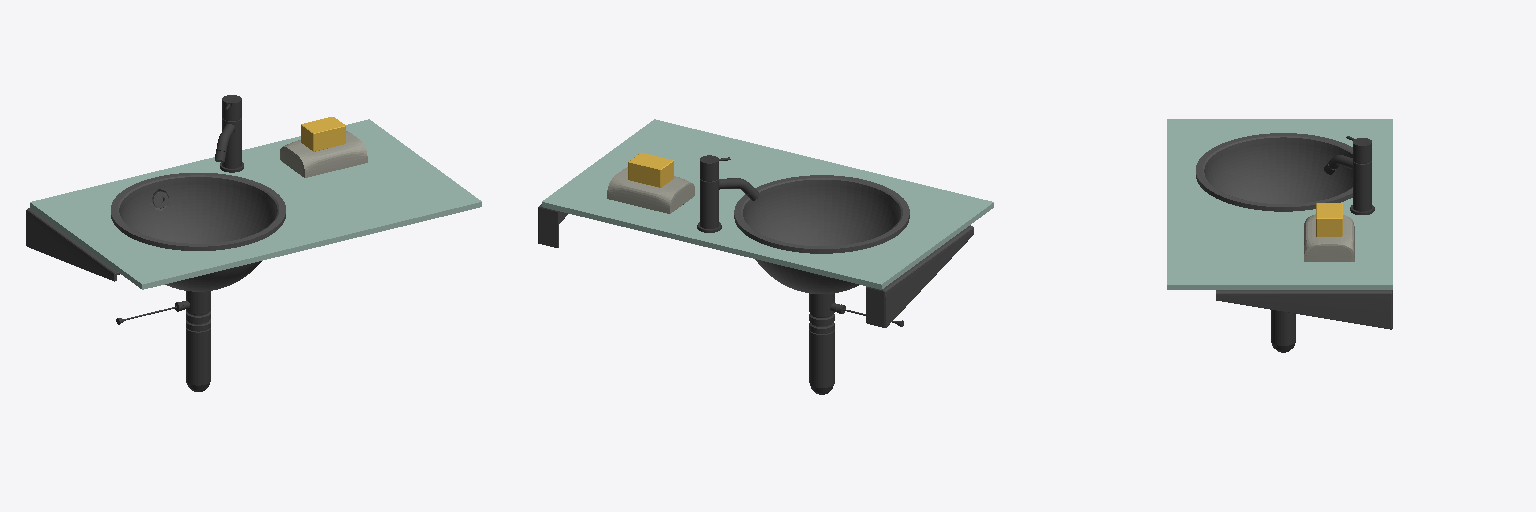
Rendered from bathroom3.obj.
The picture shows the model from 3 angles: view 1: azimuth 30°, elevation 25°; view 2: azimuth 150°, elevation 25°; view 3: azimuth 270°, elevation 25°; orthographic projection.
Visible parts, largest first — view 1: cristal_bajo_Circle, pica_agujereada_Sphere.001, tuberia_desague_Cylinder, soporte_r_Plane.001, cristal_bajo.002_Circle.001, jabonera_madera_Cube.003, grifo_mono_Circle.003, jabon_Cube.004; view 2: cristal_bajo_Circle, pica_agujereada_Sphere.001, soporte_r_Plane.001, tuberia_desague_Cylinder, cristal_bajo.002_Circle.001, jabonera_madera_Cube.003, grifo_mono_Circle.003, jabon_Cube.004, soporte_l_Plane.002; view 3: cristal_bajo_Circle, pica_agujereada_Sphere.001, soporte_l_Plane.002, grifo_mono_Circle.003, jabonera_madera_Cube.003, cristal_bajo.002_Circle.001, tuberia_desague_Cylinder, jabon_Cube.004.
Boxes of the visible parts, x1=… form: cristal_bajo_Circle: x1=30, y1=119, x2=481, y2=284; pica_agujereada_Sphere.001: x1=111, y1=173, x2=285, y2=291; tuberia_desague_Cylinder: x1=116, y1=291, x2=210, y2=391; soporte_r_Plane.001: x1=26, y1=208, x2=119, y2=281; cristal_bajo.002_Circle.001: x1=30, y1=202, x2=481, y2=289; jabonera_madera_Cube.003: x1=280, y1=131, x2=367, y2=177; grifo_mono_Circle.003: x1=215, y1=95, x2=243, y2=172; jabon_Cube.004: x1=301, y1=117, x2=345, y2=151; cristal_bajo_Circle: x1=542, y1=119, x2=993, y2=284; pica_agujereada_Sphere.001: x1=734, y1=175, x2=909, y2=293; soporte_r_Plane.001: x1=866, y1=225, x2=973, y2=327; tuberia_desague_Cylinder: x1=809, y1=293, x2=903, y2=394; cristal_bajo.002_Circle.001: x1=542, y1=202, x2=993, y2=289; jabonera_madera_Cube.003: x1=607, y1=167, x2=694, y2=213; grifo_mono_Circle.003: x1=697, y1=155, x2=759, y2=232; jabon_Cube.004: x1=628, y1=153, x2=673, y2=187; soporte_l_Plane.002: x1=538, y1=204, x2=567, y2=247; cristal_bajo_Circle: x1=1167, y1=119, x2=1392, y2=284; pica_agujereada_Sphere.001: x1=1196, y1=133, x2=1352, y2=211; soporte_l_Plane.002: x1=1216, y1=290, x2=1392, y2=329; grifo_mono_Circle.003: x1=1324, y1=136, x2=1374, y2=214; jabonera_madera_Cube.003: x1=1304, y1=214, x2=1354, y2=261; cristal_bajo.002_Circle.001: x1=1167, y1=285, x2=1392, y2=289; tuberia_desague_Cylinder: x1=1271, y1=310, x2=1295, y2=352; jabon_Cube.004: x1=1316, y1=203, x2=1342, y2=236.
Bounding box in the file's own units: 0.7198 × 0.4844 × 0.4038.